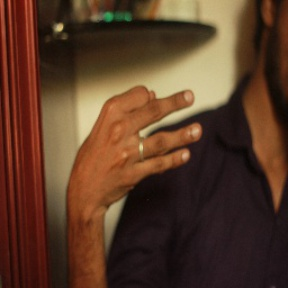K: (73, 83, 202, 193)
